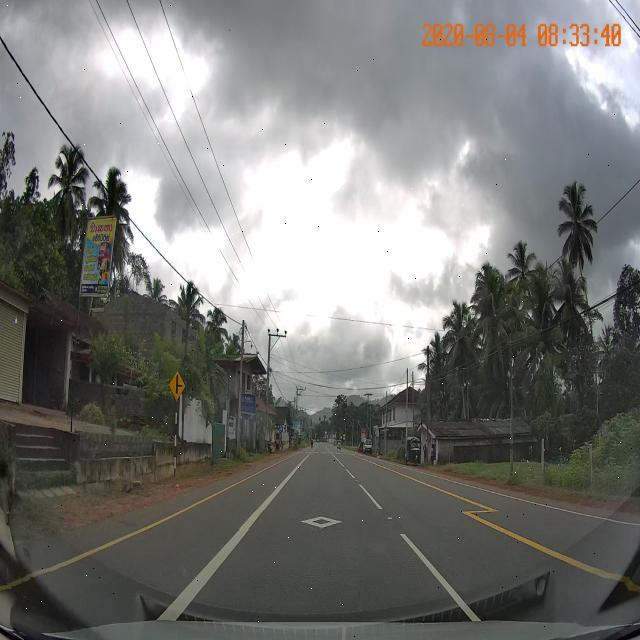diamond: (239, 511, 400, 529)
